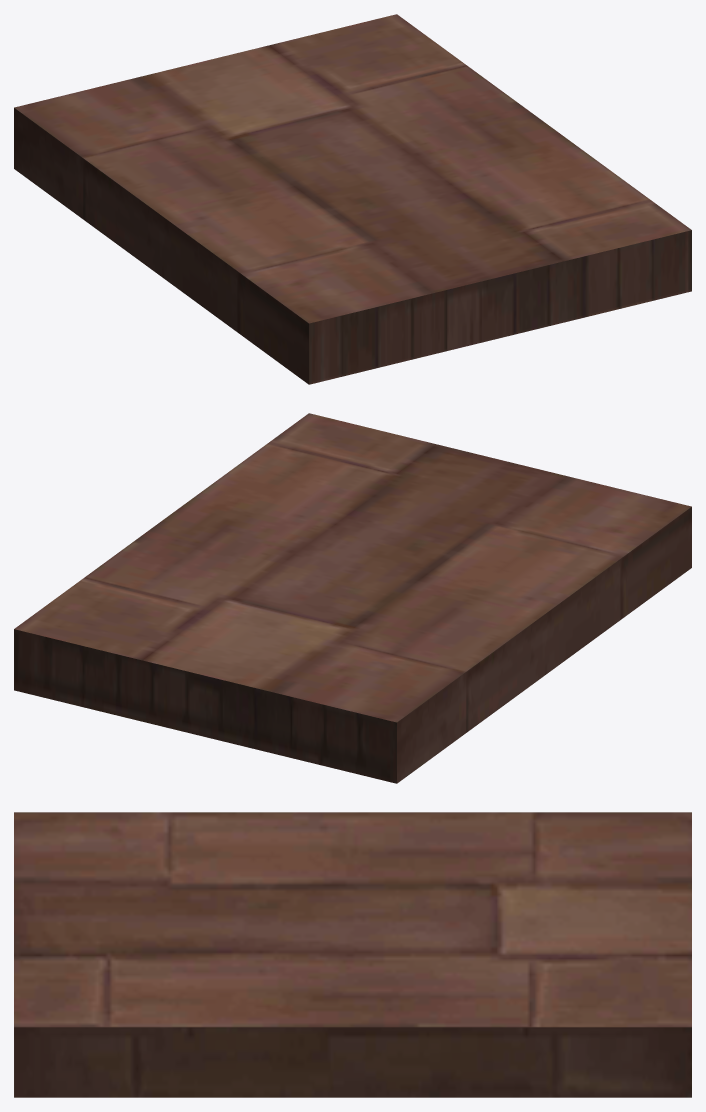
File: woodBlock (42).fbx
The picture shows the model from 3 angles, top to bottom: view 1: azimuth 30°, elevation 25°; view 2: azimuth 150°, elevation 25°; view 3: azimuth 270°, elevation 25°; orthographic projection. The views are drawn at different scales.
Parts seen in each view (by area): view 1: woodBlock (42); view 2: woodBlock (42); view 3: woodBlock (42).
Boxes of the visible parts, left/top/right/bottom form: woodBlock (42): left=14, top=14, right=691, bottom=384; woodBlock (42): left=14, top=413, right=691, bottom=783; woodBlock (42): left=14, top=812, right=691, bottom=1097.
Size of the model in its own units: 25.61 by 3.91 by 34.18.
